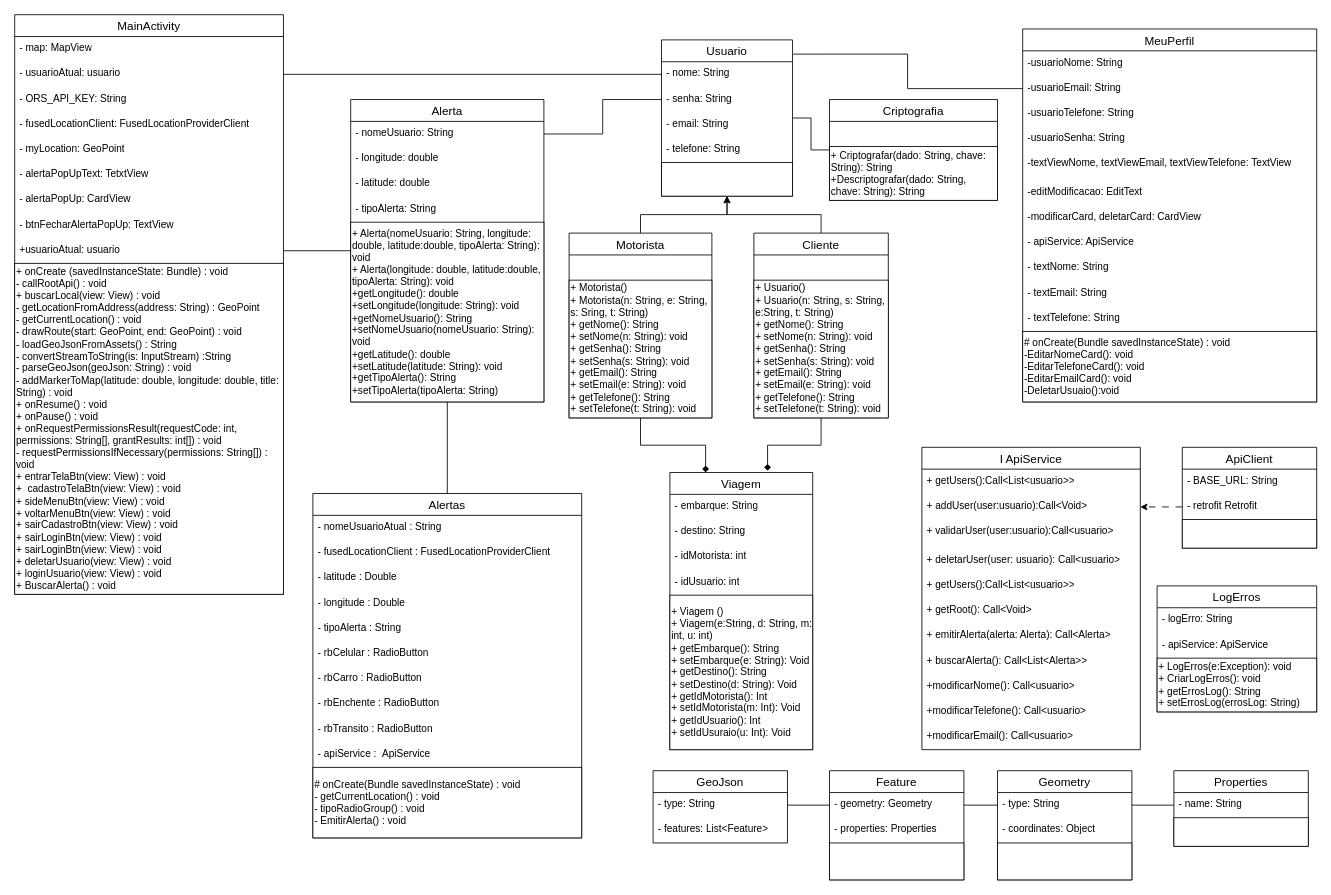
The diagram is 1331 pixels wide and 895 high, and some of its shapes have lost their labels. Each missing label, with the centre of its shape:
"+ getClient(): Retrofit" belongs at pixel 1249 533.
"+ getGeometry() + getProperties()" belongs at pixel 896 861.
"+ getName()" belongs at pixel 1240 831.
"+ getType() + getCoordinates()" belongs at pixel 1064 861.
